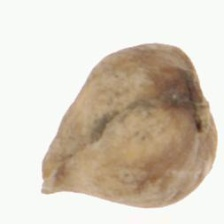L1: (167, 47, 216, 139), (41, 145, 79, 196)
L2: (40, 41, 217, 209)
